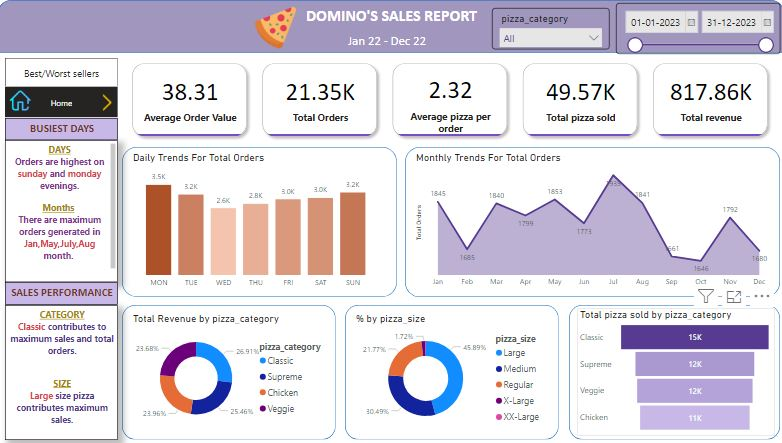

Layout of this report page (visuals, bound fields, positions):
{"tool":"powerbi","page":{"name":"Home","canvas":[1310,732],"ordinal":0},"visuals":[{"type":"cardVisual","fields":{"Data":["Key measures.Average Order Value","Key measures.Total Orders","Key measures.Average pizza per order","Key measures.Total pizza sold","Key measures.Total revenue"]},"box":[206.4,87.8,1096.5,156.6],"z":0},{"type":"shape","box":[0,0,1310.3,87.8],"z":1000},{"type":"textbox","box":[508.6,5,771.4,44],"z":2000},{"type":"textbox","box":[577.6,49.8,646.5,38.1],"z":3000},{"type":"image","box":[1.7,6.7,918.3,83.3],"z":4000},{"type":"shape","box":[206.7,245,458.3,250],"z":5000},{"type":"clusteredColumnChart","title":"Daily Trends For Total Orders","fields":{"Y":["Key measures.Total Orders"],"Category":["gds ps.Order Day"]},"box":[220,251.7,420,236.7],"z":6000},{"type":"shape","box":[677.8,244.5,625.1,250.3],"z":7000},{"type":"areaChart","title":"Monthly Trends For Total Orders","fields":{"Category":["gds ps.Short month name"],"Y":["Key measures.Total Orders"]},"box":[691,251.8,601.7,235.7],"z":8000},{"type":"shape","box":[206.7,508.7,356.2,224.3],"z":9000},{"type":"shape","box":[577.6,508.7,356.2,224.3],"z":10000},{"type":"shape","box":[951.4,508.7,351.8,224.3],"z":11000},{"type":"donutChart","title":"Total Revenue by pizza_category","fields":{"Y":["Sum(gds ps.total_price)"],"Category":["gds ps.pizza_category"]},"box":[220,520,328.3,201.7],"z":12000},{"type":"donutChart","title":"% by pizza_size","fields":{"Y":["Sum(gds ps.total_price)"],"Category":["gds ps.pizza_size"]},"box":[592.3,520.4,328.4,202.3],"z":13000},{"type":"funnel","fields":{"Y":["Key measures.Total pizza sold"],"Category":["gds ps.pizza_category"]},"box":[964.8,513.9,329.4,212.3],"z":14000},{"type":"slicer","fields":{"Values":["gds ps.pizza_category"]},"box":[822.8,13.2,196.2,68.8],"z":15000},{"type":"slicer","fields":{"Values":["gds ps.order_date"]},"box":[1029.2,4.4,273.8,84.9],"z":16000},{"type":"textbox","box":[11.7,233.3,188,236.7],"z":17000},{"type":"textbox","box":[11.7,508.3,188.3,215],"z":18000},{"type":"textbox","box":[11.7,470,188.3,38.3],"z":19000},{"type":"textbox","box":[11.7,196.7,188.3,36.7],"z":20000},{"type":"pageNavigator","box":[11.7,145,188.3,51.7],"z":21000},{"type":"pageNavigator","box":[11,96.7,188.3,48.3],"z":22000},{"type":"image","box":[163.3,108.3,36.7,125],"z":23000},{"type":"image","box":[11.7,145,50,45],"z":24000},{"type":"qnaVisual","box":[1160,508.7,150,223.3],"z":24001}]}

Visuals, with their boxes in screenshot pixels (x1, y1, x2, y2), scaled from the page's 1310x732 canvas onto the 782x443 screenshot:
cardVisual - Key measures.Average Order Value x Key measures.Total Orders: <bbox>123, 53, 778, 148</bbox>
shape: <bbox>0, 0, 781, 53</bbox>
textbox: <bbox>304, 3, 764, 30</bbox>
textbox: <bbox>345, 30, 731, 53</bbox>
image: <bbox>1, 4, 549, 54</bbox>
shape: <bbox>123, 148, 397, 300</bbox>
"Daily Trends For Total Orders" clusteredColumnChart: <bbox>131, 152, 382, 296</bbox>
shape: <bbox>405, 148, 778, 299</bbox>
"Monthly Trends For Total Orders" areaChart: <bbox>412, 152, 772, 295</bbox>
shape: <bbox>123, 308, 336, 442</bbox>
shape: <bbox>345, 308, 557, 442</bbox>
shape: <bbox>568, 308, 778, 442</bbox>
"Total Revenue by pizza_category" donutChart: <bbox>131, 315, 327, 437</bbox>
"% by pizza_size" donutChart: <bbox>354, 315, 550, 437</bbox>
funnel - Key measures.Total pizza sold x gds ps.pizza_category: <bbox>576, 311, 773, 439</bbox>
slicer - gds ps.pizza_category: <bbox>491, 8, 608, 50</bbox>
slicer - gds ps.order_date: <bbox>614, 3, 778, 54</bbox>
textbox: <bbox>7, 141, 119, 284</bbox>
textbox: <bbox>7, 308, 119, 438</bbox>
textbox: <bbox>7, 284, 119, 308</bbox>
textbox: <bbox>7, 119, 119, 141</bbox>
pageNavigator: <bbox>7, 88, 119, 119</bbox>
pageNavigator: <bbox>7, 59, 119, 88</bbox>
image: <bbox>97, 66, 119, 141</bbox>
image: <bbox>7, 88, 37, 115</bbox>
qnaVisual: <bbox>692, 308, 781, 442</bbox>
